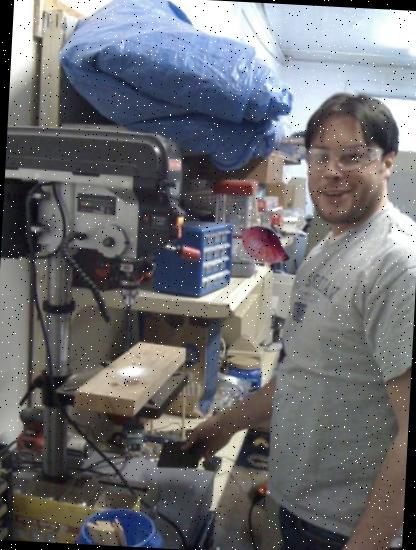Salak: (231, 212, 295, 276)
